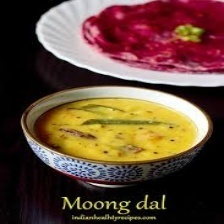dal: (31, 95, 202, 165)
